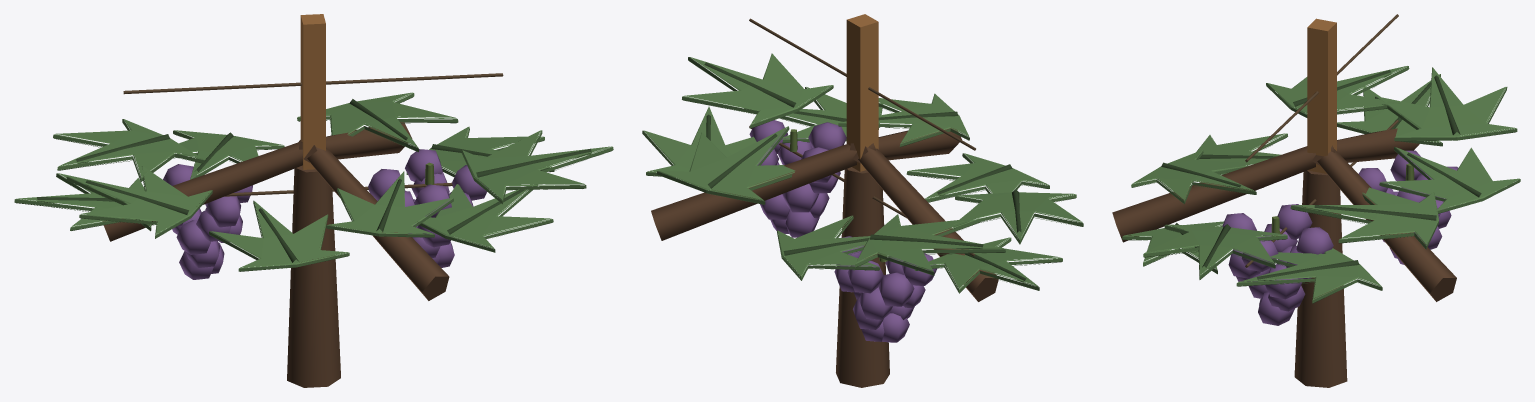
The model's file is grape.glb.
The picture shows the model from 3 angles, left to right: view 1: azimuth 30°, elevation 25°; view 2: azimuth 150°, elevation 25°; view 3: azimuth 270°, elevation 25°; orthographic projection.
Parts seen in each view (by area): view 1: cropLeafInstances, cropStemInstances, cropFruitInstances, cropSupportInstances; view 2: cropLeafInstances, cropStemInstances, cropFruitInstances, cropSupportInstances; view 3: cropLeafInstances, cropStemInstances, cropFruitInstances, cropSupportInstances.
Boxes of the visible parts, x1,y1,x2,y2 form: cropLeafInstances: (14,92,613,271); cropStemInstances: (102,122,449,387); cropFruitInstances: (163,149,487,279); cropSupportInstances: (123,14,503,196); cropLeafInstances: (642,53,1083,293); cropStemInstances: (651,128,998,387); cropFruitInstances: (749,120,937,342); cropSupportInstances: (749,14,975,256); cropLeafInstances: (1122,66,1520,303); cropStemInstances: (1112,128,1456,387); cropFruitInstances: (1222,150,1458,325); cropSupportInstances: (1245,14,1398,267).
Size of what is drawn, in the model's own units: 2.16 by 1.55 by 1.63.
